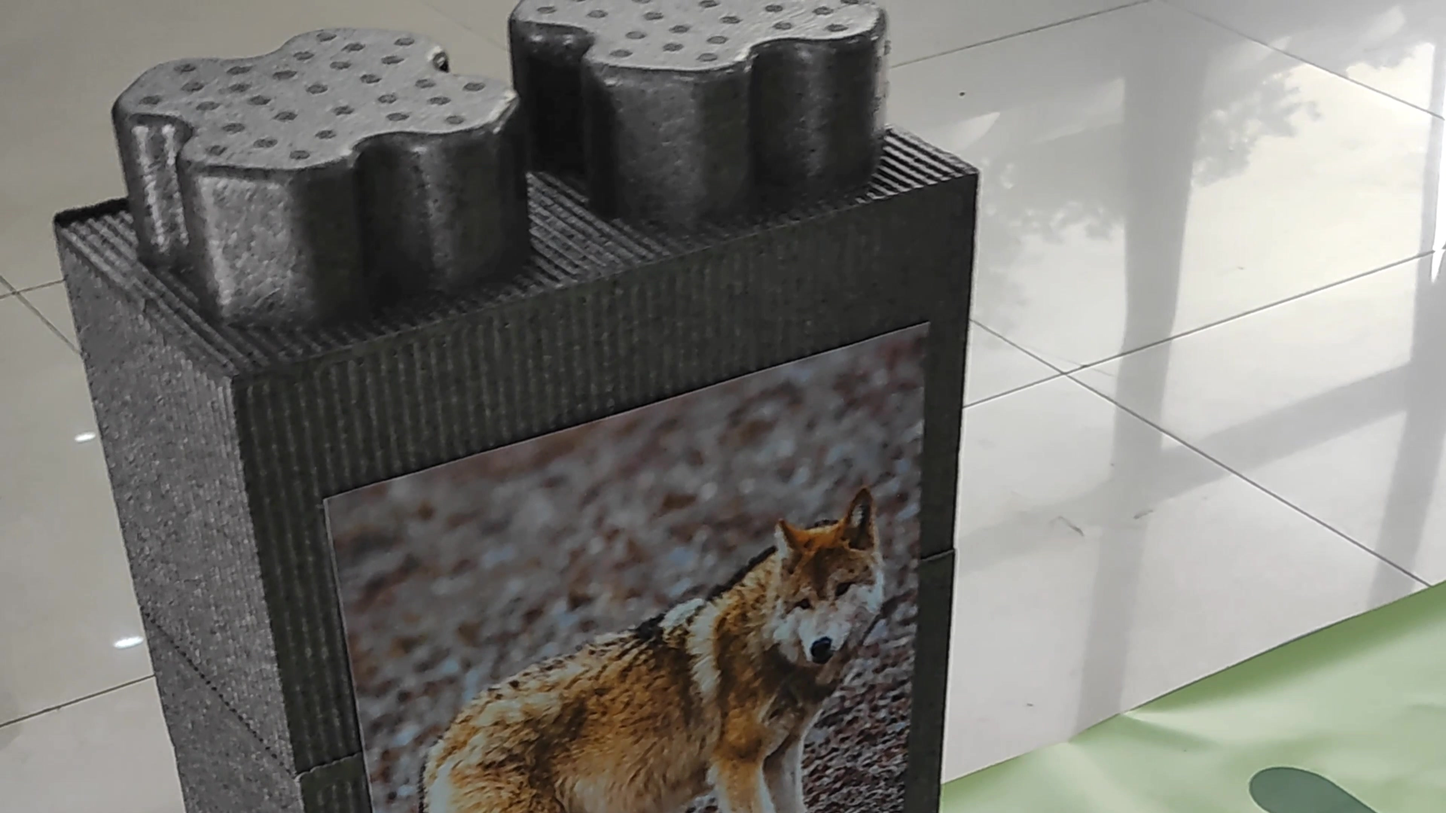wolf: (379, 486, 932, 813)
